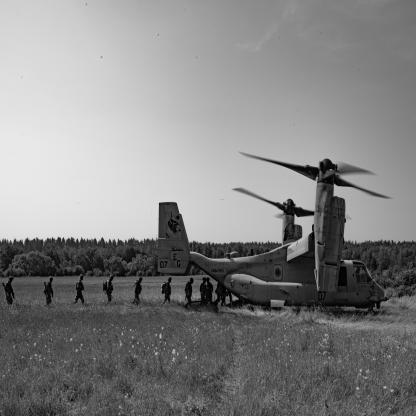V22: (157, 152, 395, 314)
